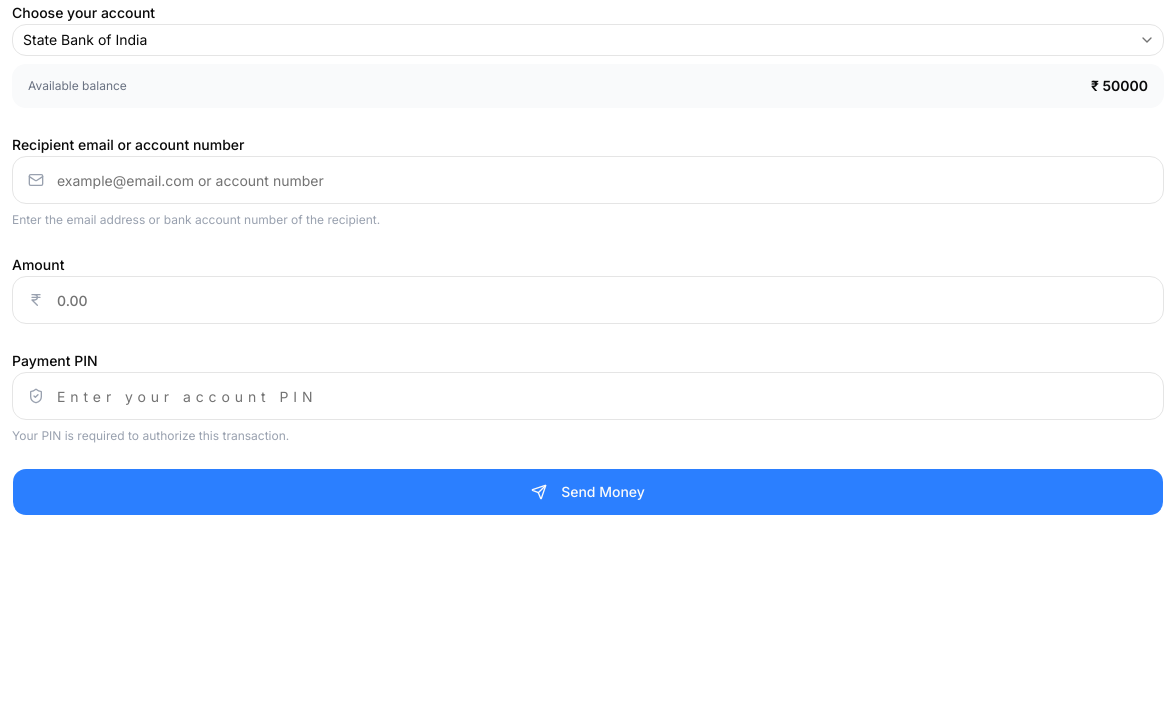
Test case: PaymentTransfer › shows the API error and clears the form when transfer fails
This screenshot has width=1176, height=720.
Type "receiver@example.com" into the field with placeholder "example@email.com or account number" at point(588, 180), box [12,156,1164,204]
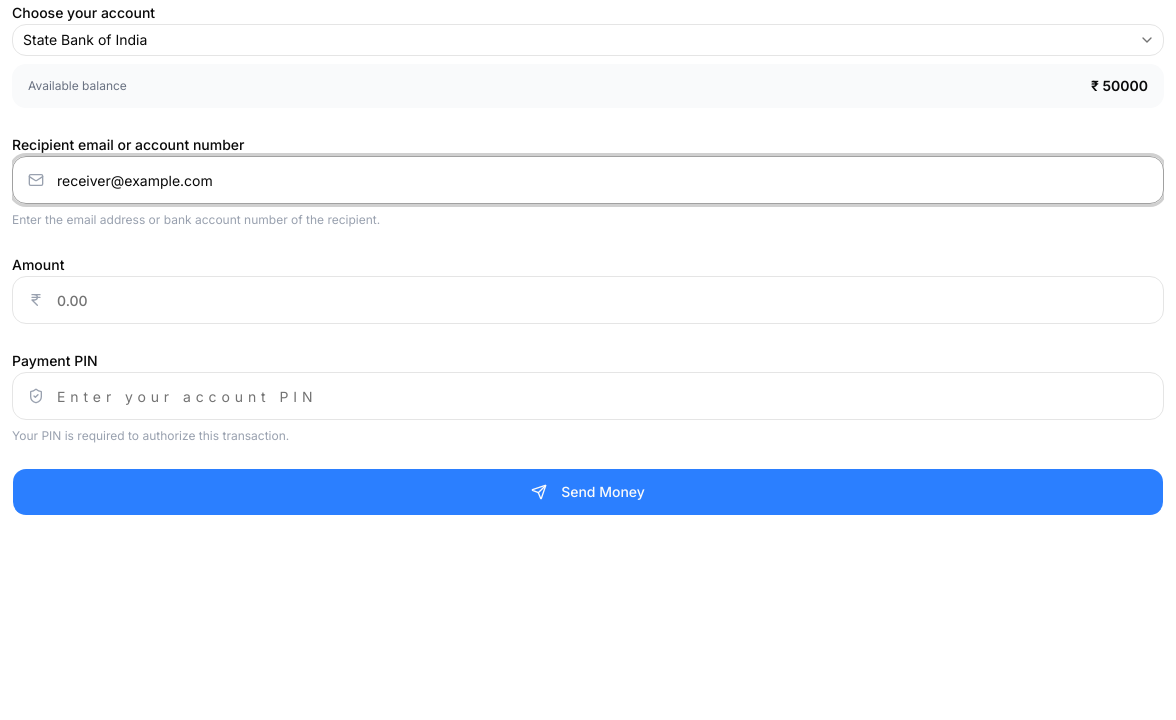
Type "500" into the number field with placeholder "0.00" at point(588, 300), box [12,276,1164,324]
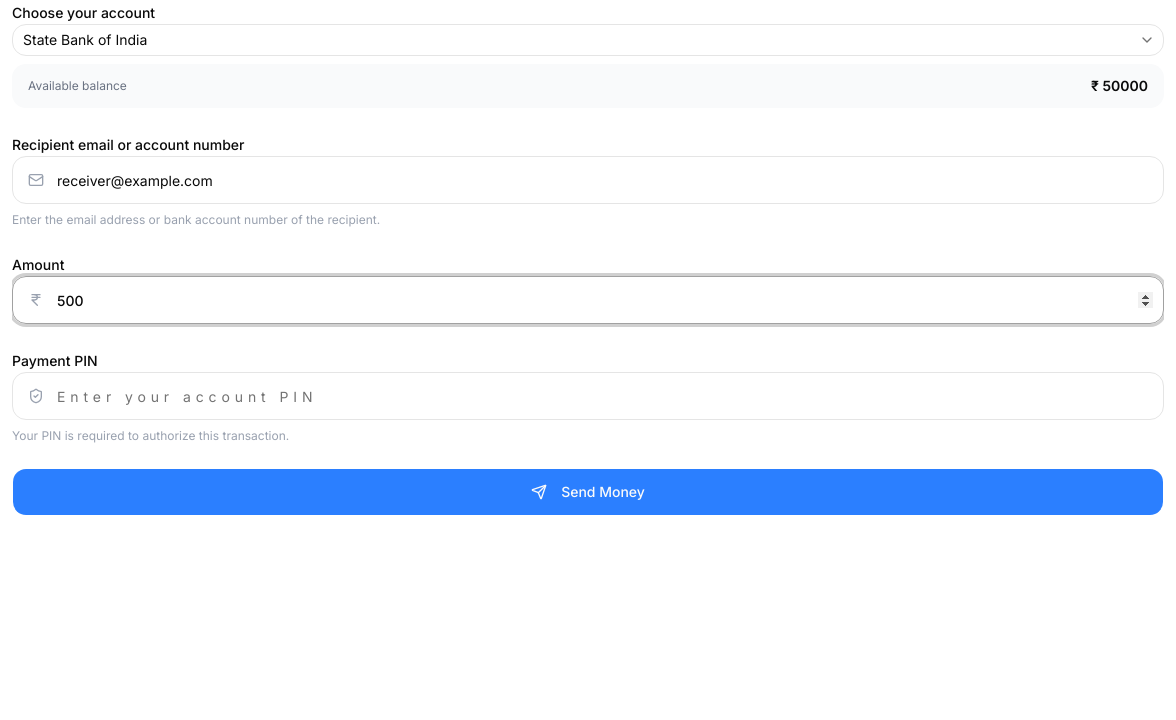
Type "9999" into the password field with placeholder "Enter your account PIN" at point(588, 396), box [12,372,1164,420]
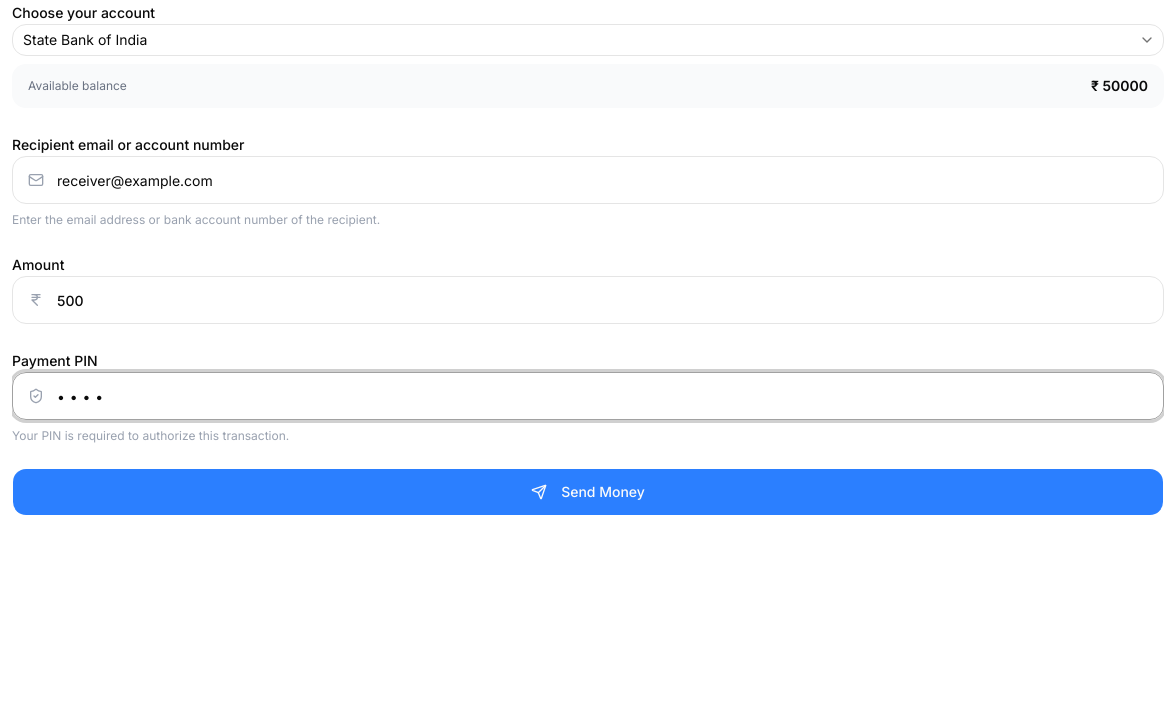
Click the button "Send Money" at point(588, 492), box [12,468,1164,516]
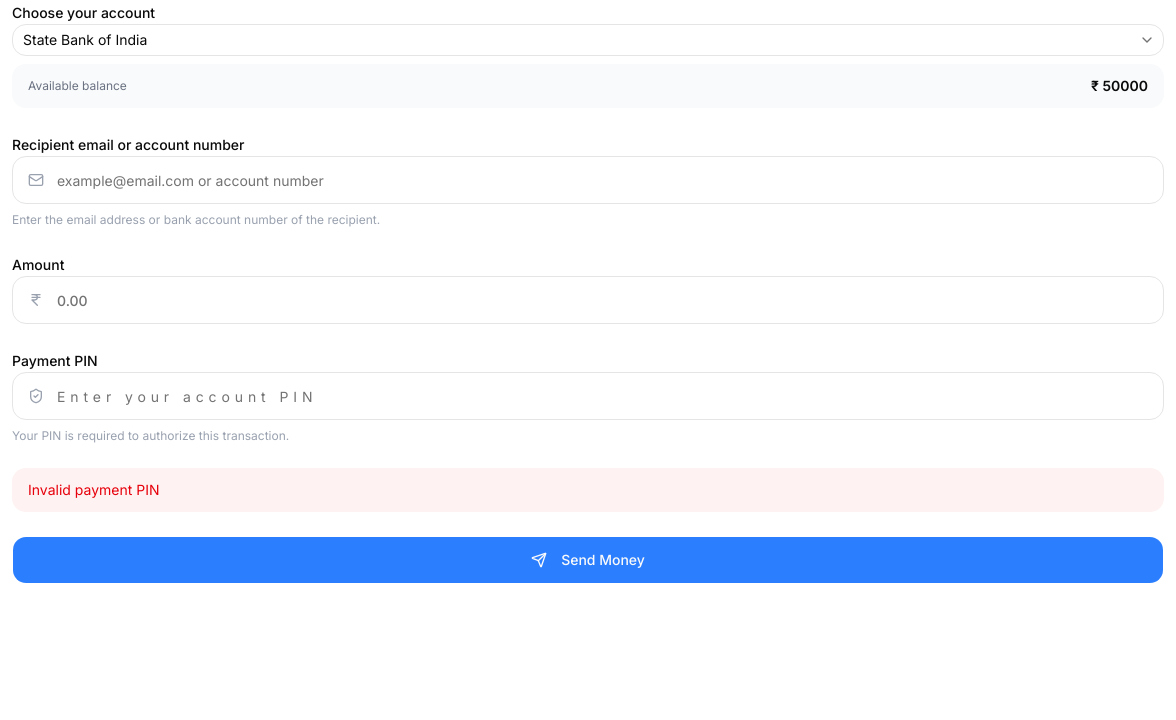
Expected: the text "Invalid payment PIN" is shown, [12,468,1164,512]
Expected: the field with placeholder "example@email.com or account number" is empty, [12,156,1164,204]
Expected: the number field with placeholder "0.00" is not empty, [12,276,1164,324]
